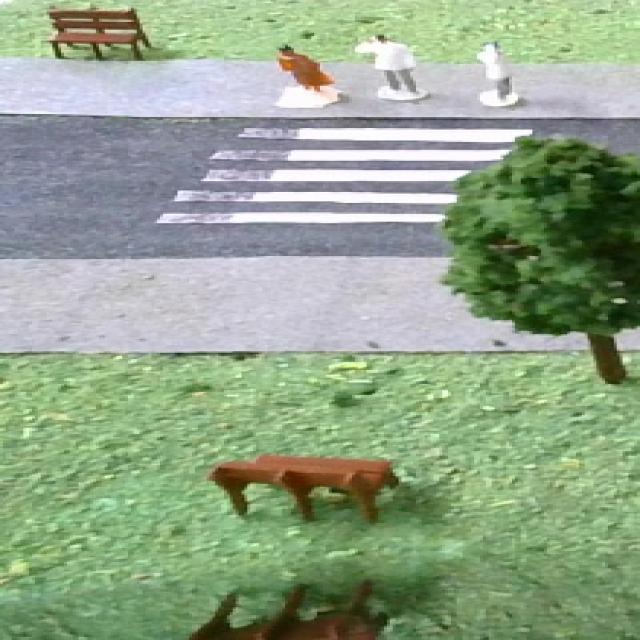person: (349, 30, 430, 100), (262, 37, 343, 103), (464, 39, 533, 109)
